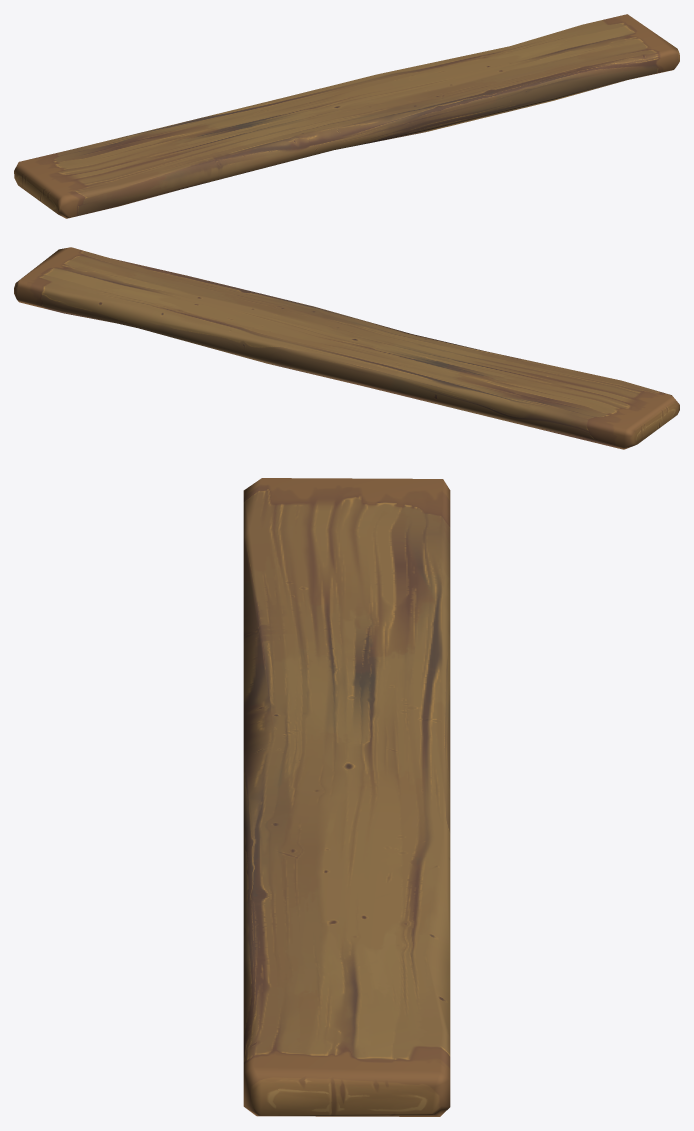
The model's file is SM_MOD_basic_plank_town_06.fbx.
The picture shows the model from 3 angles, top to bottom: view 1: azimuth 30°, elevation 25°; view 2: azimuth 150°, elevation 25°; view 3: azimuth 270°, elevation 25°; orthographic projection. The views are drawn at different scales.
Visible parts, largest first — view 1: SM_MOD_basic_plank_town_06_LOD0; view 2: SM_MOD_basic_plank_town_06_LOD0; view 3: SM_MOD_basic_plank_town_06_LOD0.
Boxes of the visible parts, <box> form: SM_MOD_basic_plank_town_06_LOD0: <box>14,14,679,218</box>; SM_MOD_basic_plank_town_06_LOD0: <box>14,247,679,449</box>; SM_MOD_basic_plank_town_06_LOD0: <box>243,478,450,1116</box>.
Size of what is drawn, in the model's own units: 300 by 10.38 by 43.42.
